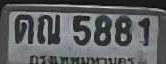1: (138, 17, 149, 45)
5: (72, 14, 90, 44)
8: (93, 15, 111, 45), (114, 15, 131, 45)
A19: (36, 13, 60, 44)
A21: (14, 14, 33, 42)
